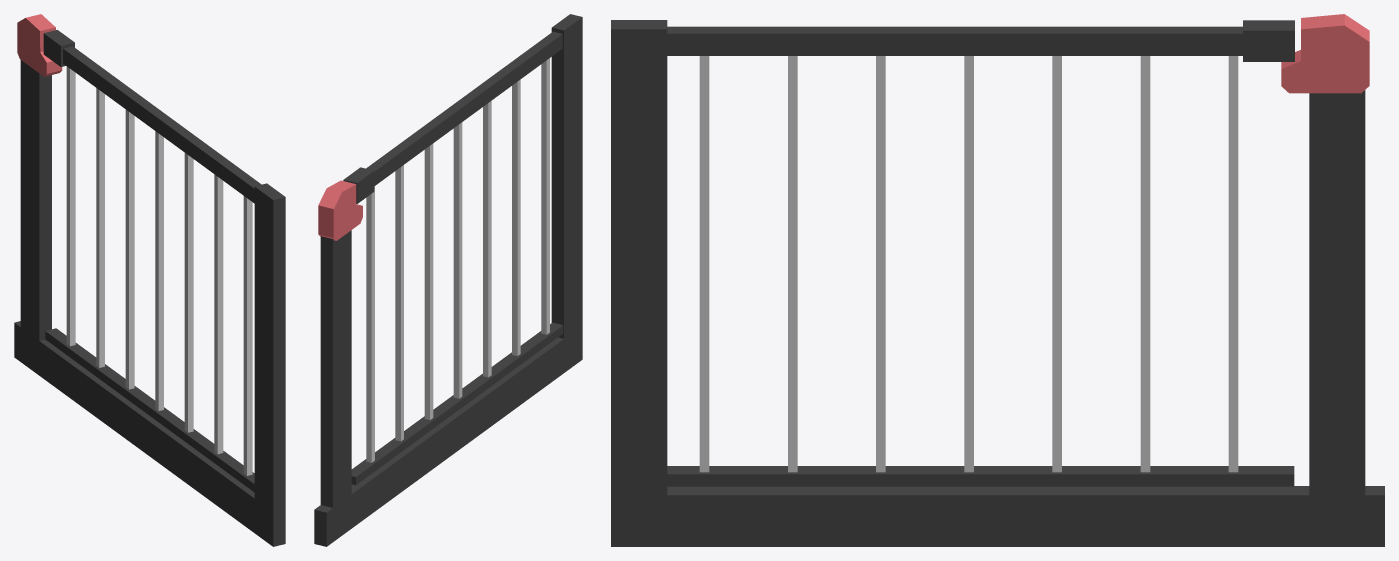
Rendered from BabyGate.fbx.
3 renders of one model, left to right at view 1: azimuth 30°, elevation 25°; view 2: azimuth 150°, elevation 25°; view 3: azimuth 270°, elevation 25°, orthographic. The views are drawn at different scales.
Parts seen in each view (by area): view 1: Cube.008, Cube.010, Cube.009; view 2: Cube.008, Cube.010, Cube.009; view 3: Cube.008, Cube.010, Cube.009.
Boxes of the visible parts, bbox=[...] form: Cube.008: bbox=[14, 30, 285, 546]; Cube.010: bbox=[66, 66, 252, 475]; Cube.009: bbox=[17, 14, 62, 76]; Cube.008: bbox=[314, 14, 582, 546]; Cube.010: bbox=[366, 58, 549, 462]; Cube.009: bbox=[318, 180, 362, 240]; Cube.008: bbox=[611, 20, 1384, 546]; Cube.010: bbox=[699, 56, 1238, 472]; Cube.009: bbox=[1281, 14, 1369, 93].
Bounding box in the file's own units: 0.3607 × 7.64 × 10.26.
